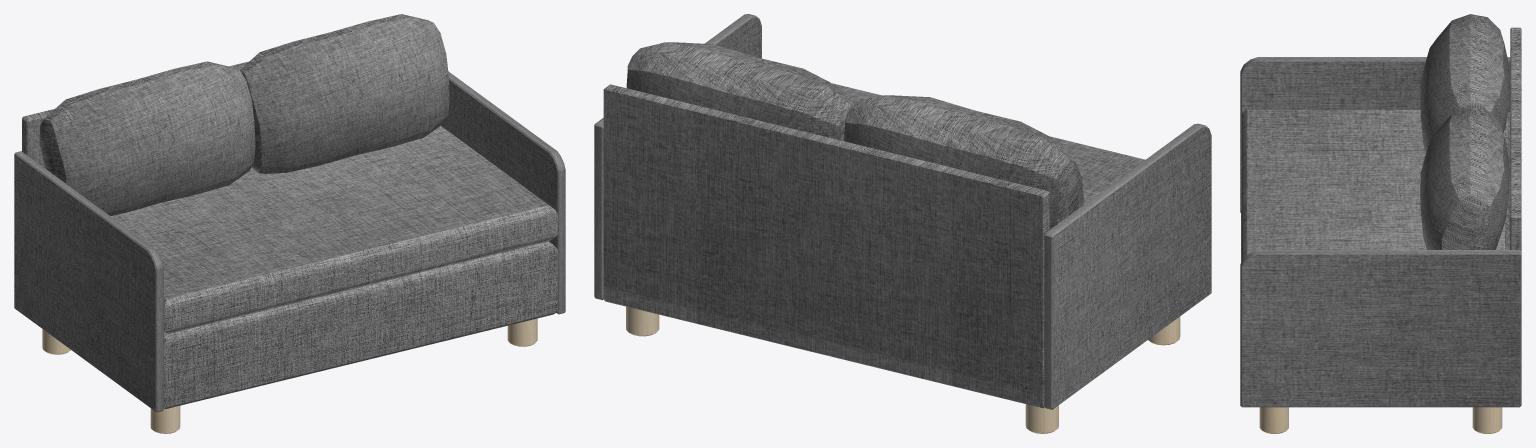
Rendered from fridhult3.fbx.
3 renders of one model, left to right at view 1: azimuth 30°, elevation 25°; view 2: azimuth 150°, elevation 25°; view 3: azimuth 270°, elevation 25°, orthographic. The views are drawn at different scales.
Visible parts, largest first — view 1: pCube2, pCube1, pCube6, pCube7, pCylinder4, pCube3; view 2: pCube3, pCube1, pCube7, pCube6, pCube2, pCylinder4; view 3: pCube1, pCube2, pCube6, pCube7, pCube3, pCylinder4.
Part boxes in pixels (<box>): pCube2: <box>111,126,557,408</box>; pCube1: <box>14,71,565,412</box>; pCube6: <box>239,14,449,173</box>; pCube7: <box>39,61,255,215</box>; pCylinder4: <box>42,318,537,433</box>; pCube3: <box>22,61,248,167</box>; pCube3: <box>603,84,1049,408</box>; pCube1: <box>594,14,1211,409</box>; pCube7: <box>844,95,1083,229</box>; pCube6: <box>626,42,854,141</box>; pCube2: <box>832,83,1145,204</box>; pCylinder4: <box>626,306,1180,433</box>; pCube1: <box>1240,57,1521,407</box>; pCube2: <box>1241,110,1510,262</box>; pCube6: <box>1420,107,1509,249</box>; pCube7: <box>1420,14,1509,153</box>; pCube3: <box>1510,27,1521,250</box>; pCylinder4: <box>1259,407,1502,433</box>.
Bounding box in the file's own units: 126 × 75.04 × 76.
2 materials, 2 textured.
